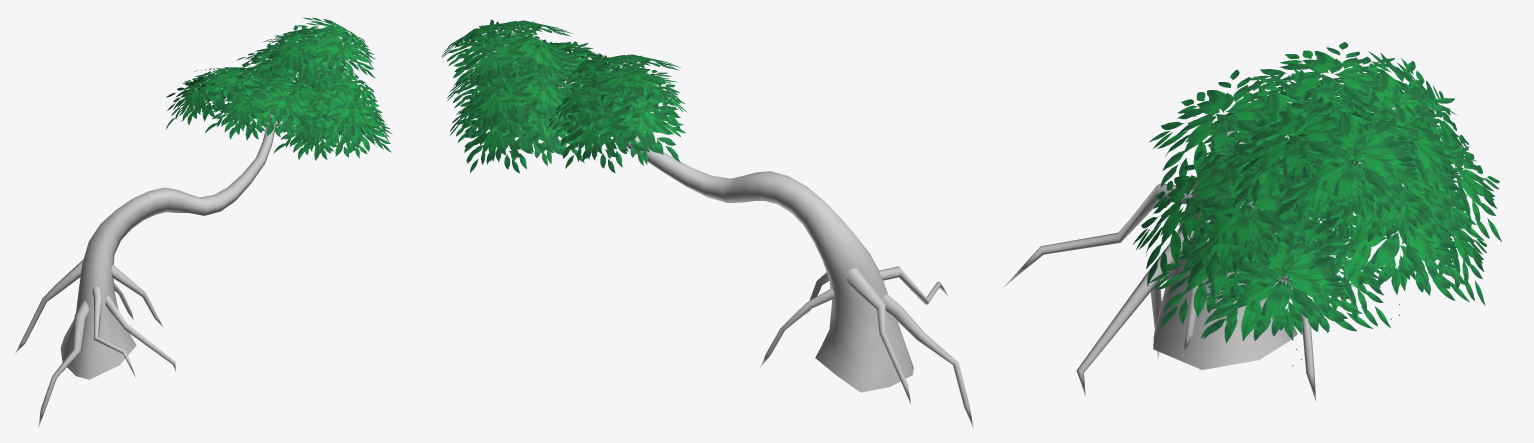
The model's file is Tree_M3.fbx.
3 renders of one model, left to right at view 1: azimuth 30°, elevation 25°; view 2: azimuth 150°, elevation 25°; view 3: azimuth 270°, elevation 25°, orthographic. The views are drawn at different scales.
Parts seen in each view (by area): view 1: Tree_M3_LOD0; view 2: Tree_M3_LOD0; view 3: Tree_M3_LOD0.
Part boxes in pixels (<box>): Tree_M3_LOD0: <box>14,17,392,427</box>; Tree_M3_LOD0: <box>441,19,973,427</box>; Tree_M3_LOD0: <box>1003,42,1501,400</box>.
Size of what is drawn, in the model's own units: 1191 by 847 by 688.
